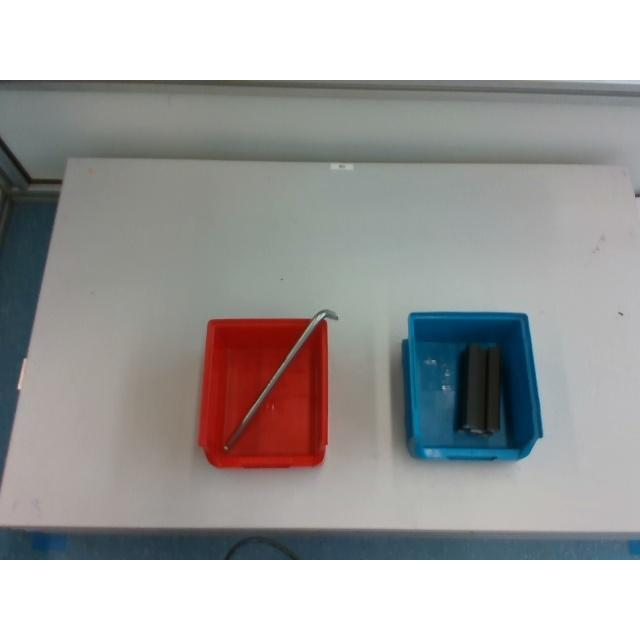AllenKey: (222, 308, 338, 452)
S40_40_B: (459, 344, 503, 440)
container_box_blue: (404, 312, 540, 460)
container_box_red: (198, 318, 326, 467)
